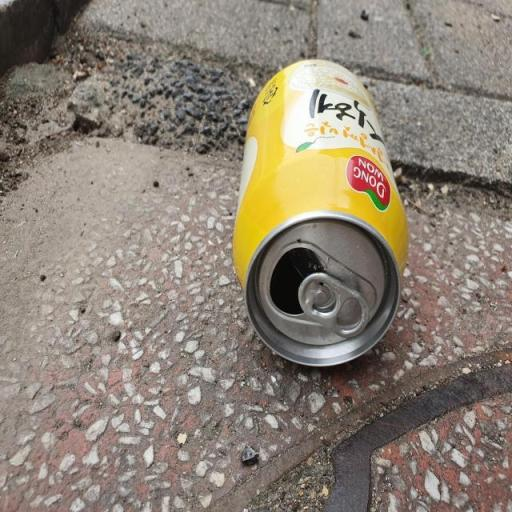metal: (214, 45, 426, 397)
